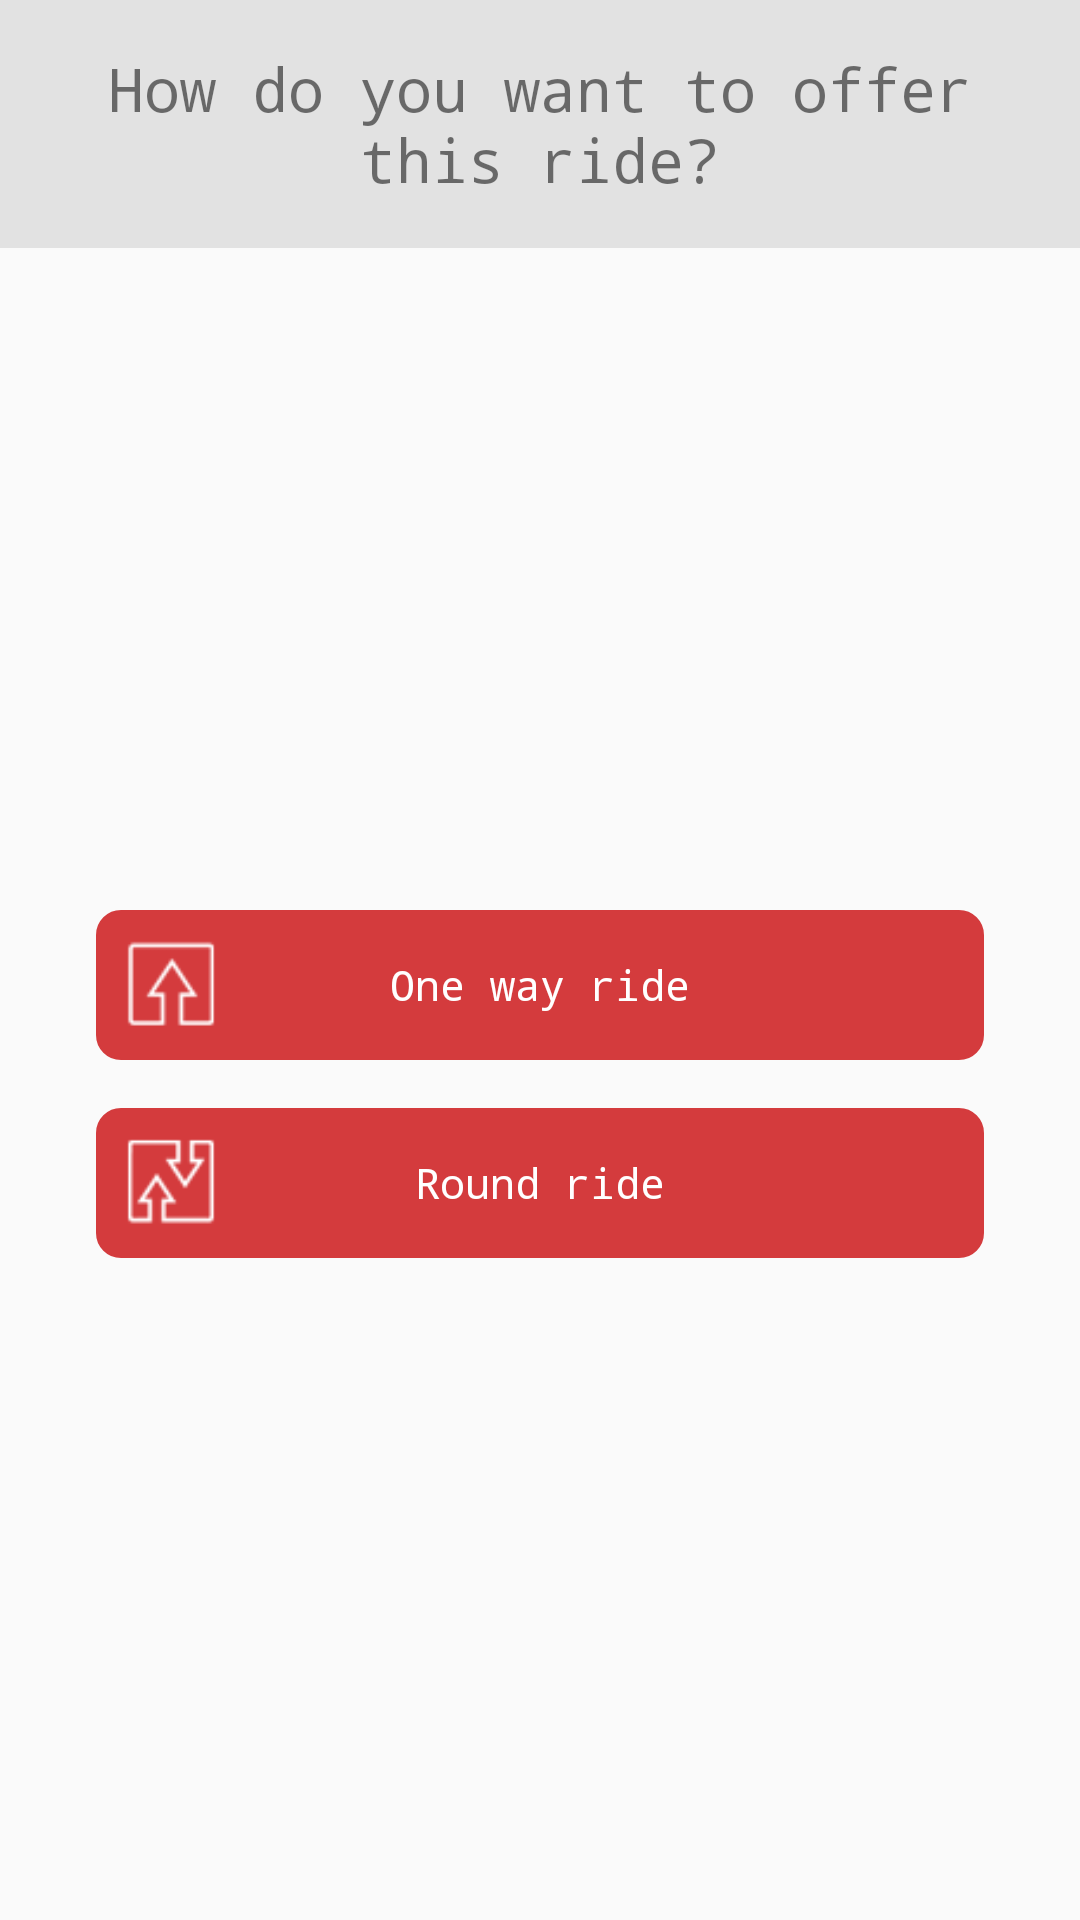

Screen size 1080×1920. Icon name, then its box in pixels as {"left": x1, "top": y1, "right": x2, "bottom": y2}:
oneway: {"left": 128, "top": 942, "right": 215, "bottom": 1026}
trip: {"left": 127, "top": 1139, "right": 215, "bottom": 1224}
